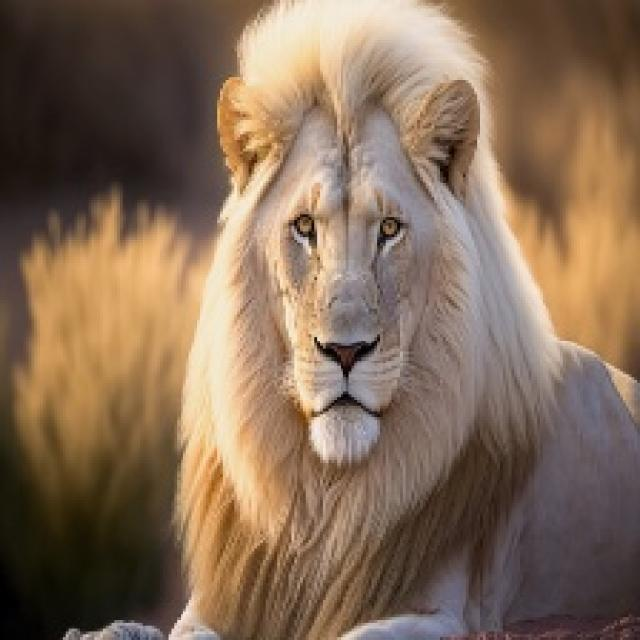bear: (155, 44, 640, 606)
